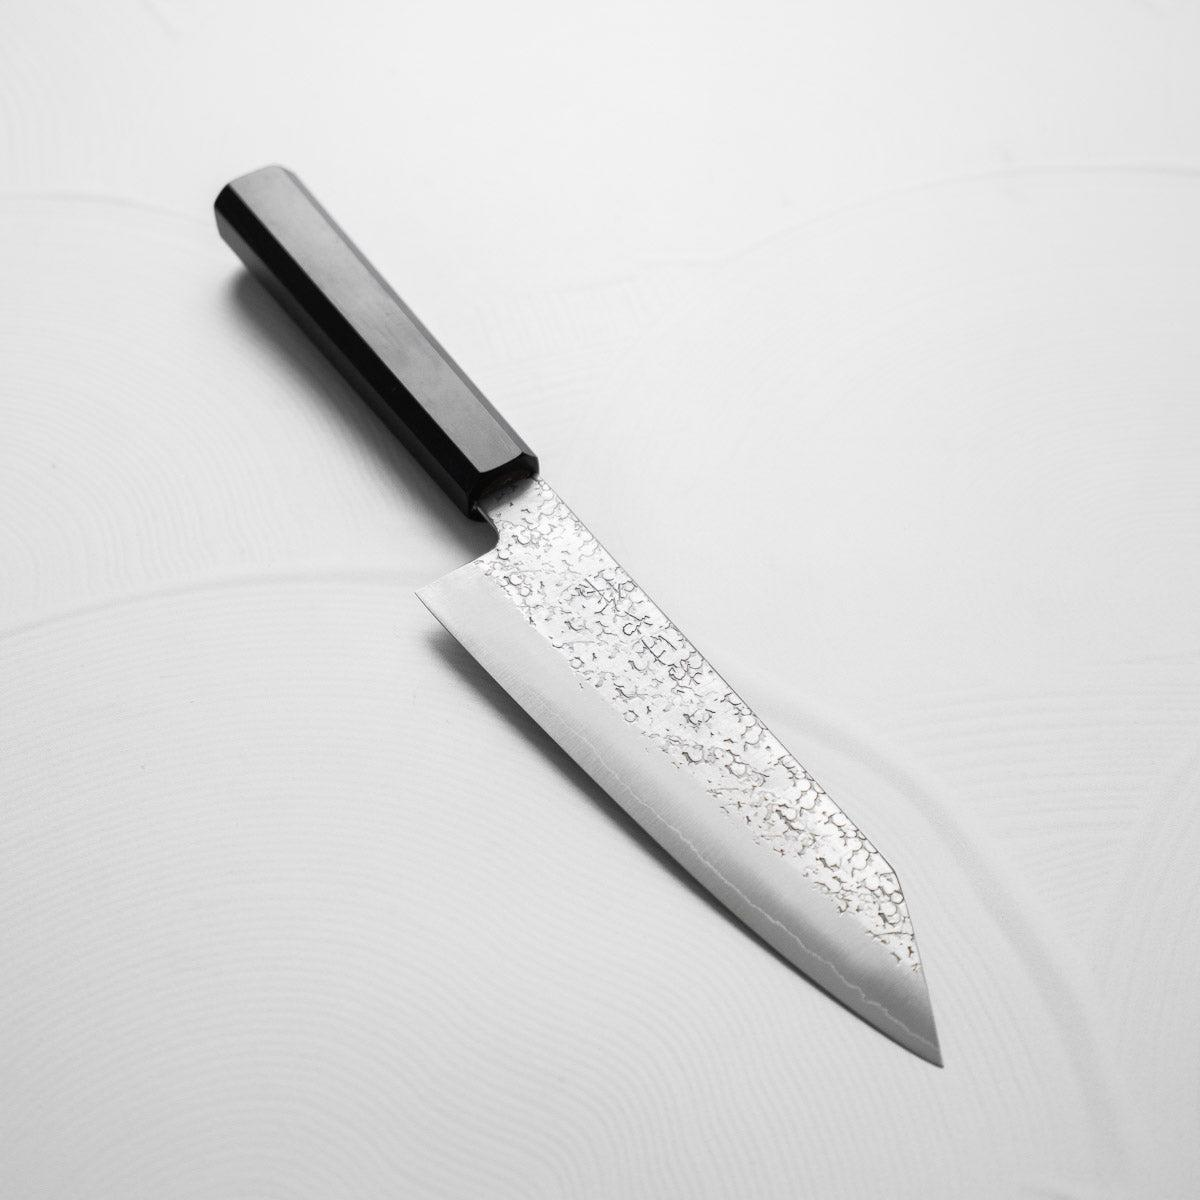Knife: (212, 162, 945, 1069)
